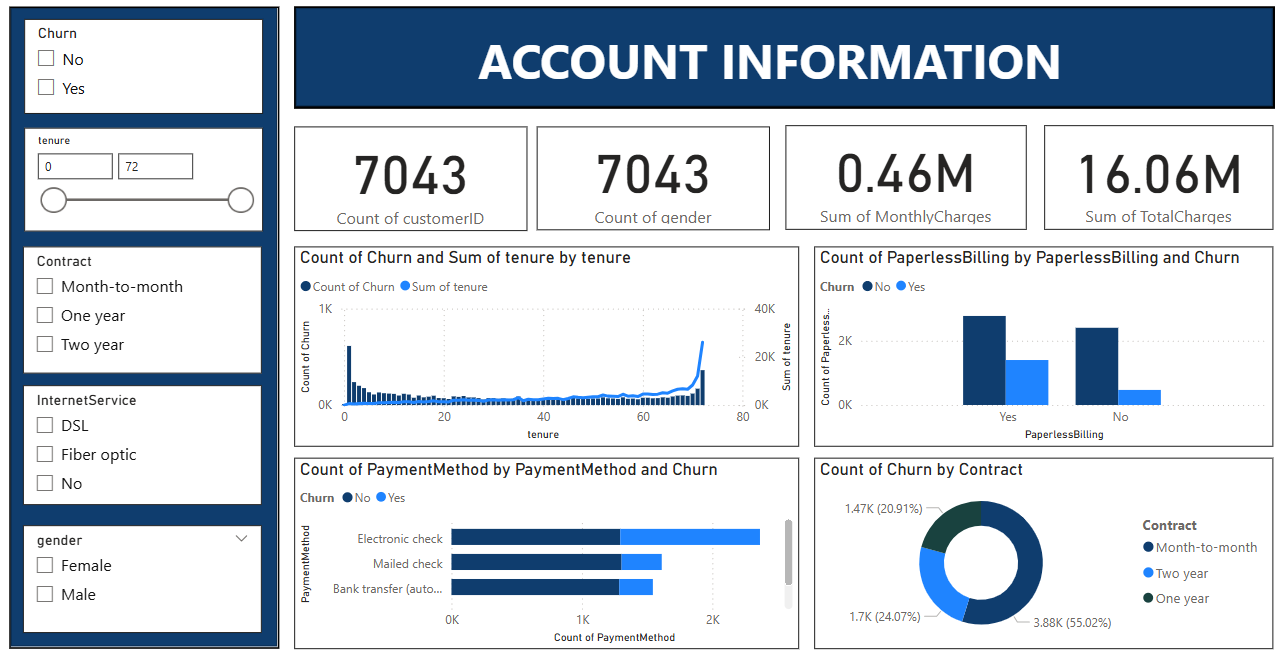

This screenshot's page, from the dashboard's own definition file:
{"tool":"powerbi","page":{"name":"Customer Account Profile","canvas":[1280,720],"ordinal":1},"visuals":[{"type":"barChart","fields":{"Category":["01 Churn-Dataset.PaymentMethod"],"Y":["CountNonNull(01 Churn-Dataset.PaymentMethod)"],"Series":["01 Churn-Dataset.Churn"]},"box":[295,481.6,502.2,190.7],"z":0},{"type":"lineClusteredColumnComboChart","fields":{"Category":["01 Churn-Dataset.tenure"],"Y":["CountNonNull(01 Churn-Dataset.Churn)"],"Y2":["Sum(01 Churn-Dataset.tenure)"]},"box":[295,271.7,502.2,199],"z":1000},{"type":"donutChart","fields":{"Category":["01 Churn-Dataset.Contract"],"Y":["CountNonNull(01 Churn-Dataset.Churn)"]},"box":[812.4,481.6,456.9,190.7],"z":2000},{"type":"group","id":"g1","title":"Group 1","box":[11,32.9,269,639.5],"z":3000},{"type":"shape","box":[11,32.9,269,639.5],"z":4000,"group":"g1"},{"type":"group","id":"g2","title":"Group 2","box":[295,32.9,975.6,101.5],"z":4000},{"type":"shape","box":[295,32.9,975.6,101.5],"z":5000,"group":"g2"},{"type":"slicer","fields":{"Values":["01 Churn-Dataset.Churn"]},"box":[26.1,45.2,237.4,94.7],"z":5000,"group":"g1"},{"type":"card","title":"Customer at risk","fields":{"Values":["Count(01 Churn-Dataset.customerID)"]},"box":[295,152.3,231.9,104.3],"z":5000},{"type":"textbox","box":[425.4,48,686.1,86.4],"z":6000,"group":"g2"},{"type":"card","fields":{"Values":["CountNonNull(01 Churn-Dataset.gender)"]},"box":[536.5,152.3,231.9,102.9],"z":6000},{"type":"slicer","fields":{"Values":["01 Churn-Dataset.tenure"]},"box":[26.1,153.7,237.4,102.9],"z":6000,"group":"g1"},{"type":"card","fields":{"Values":["Sum(01 Churn-Dataset.MonthlyCharges)"]},"box":[783.5,150.9,240.1,104.3],"z":7000},{"type":"slicer","fields":{"Values":["01 Churn-Dataset.Contract"]},"box":[24.7,271.7,237.4,126.2],"z":7000,"group":"g1"},{"type":"card","fields":{"Values":["Sum(01 Churn-Dataset.TotalCharges)"]},"box":[1041.5,150.9,227.8,104.3],"z":8000},{"type":"slicer","fields":{"Values":["01 Churn-Dataset.InternetService"]},"box":[24.7,410.3,237.4,119.4],"z":8000,"group":"g1"},{"type":"clusteredColumnChart","fields":{"Category":["01 Churn-Dataset.PaperlessBilling"],"Y":["CountNonNull(01 Churn-Dataset.PaperlessBilling)"],"Series":["01 Churn-Dataset.Churn"]},"box":[812.4,271.7,456.9,199],"z":9000},{"type":"slicer","fields":{"Values":["01 Churn-Dataset.gender"]},"box":[24.7,548.9,237.4,107],"z":9000,"group":"g1"}]}

Visuals, with their boxes on the page's 1280x720 design canvas (x1, y1, x2, y2). These are canvas units, not pixel positions in the 1280x658 screenshot, which may show the page scaled, cropped or inside an application window:
barChart - 01 Churn-Dataset.PaymentMethod x CountNonNull(01 Churn-Dataset.PaymentMethod): pyautogui.locateOnScreen(295, 482, 797, 672)
lineClusteredColumnComboChart - 01 Churn-Dataset.tenure x CountNonNull(01 Churn-Dataset.Churn): pyautogui.locateOnScreen(295, 272, 797, 471)
donutChart - 01 Churn-Dataset.Contract x CountNonNull(01 Churn-Dataset.Churn): pyautogui.locateOnScreen(812, 482, 1269, 672)
"Group 1" group: pyautogui.locateOnScreen(11, 33, 280, 672)
shape: pyautogui.locateOnScreen(11, 33, 280, 672)
"Group 2" group: pyautogui.locateOnScreen(295, 33, 1271, 134)
shape: pyautogui.locateOnScreen(295, 33, 1271, 134)
slicer - 01 Churn-Dataset.Churn: pyautogui.locateOnScreen(26, 45, 264, 140)
"Customer at risk" card: pyautogui.locateOnScreen(295, 152, 527, 257)
textbox: pyautogui.locateOnScreen(425, 48, 1112, 134)
card - CountNonNull(01 Churn-Dataset.gender): pyautogui.locateOnScreen(536, 152, 768, 255)
slicer - 01 Churn-Dataset.tenure: pyautogui.locateOnScreen(26, 154, 264, 257)
card - Sum(01 Churn-Dataset.MonthlyCharges): pyautogui.locateOnScreen(784, 151, 1024, 255)
slicer - 01 Churn-Dataset.Contract: pyautogui.locateOnScreen(25, 272, 262, 398)
card - Sum(01 Churn-Dataset.TotalCharges): pyautogui.locateOnScreen(1042, 151, 1269, 255)
slicer - 01 Churn-Dataset.InternetService: pyautogui.locateOnScreen(25, 410, 262, 530)
clusteredColumnChart - 01 Churn-Dataset.PaperlessBilling x CountNonNull(01 Churn-Dataset.PaperlessBilling): pyautogui.locateOnScreen(812, 272, 1269, 471)
slicer - 01 Churn-Dataset.gender: pyautogui.locateOnScreen(25, 549, 262, 656)
